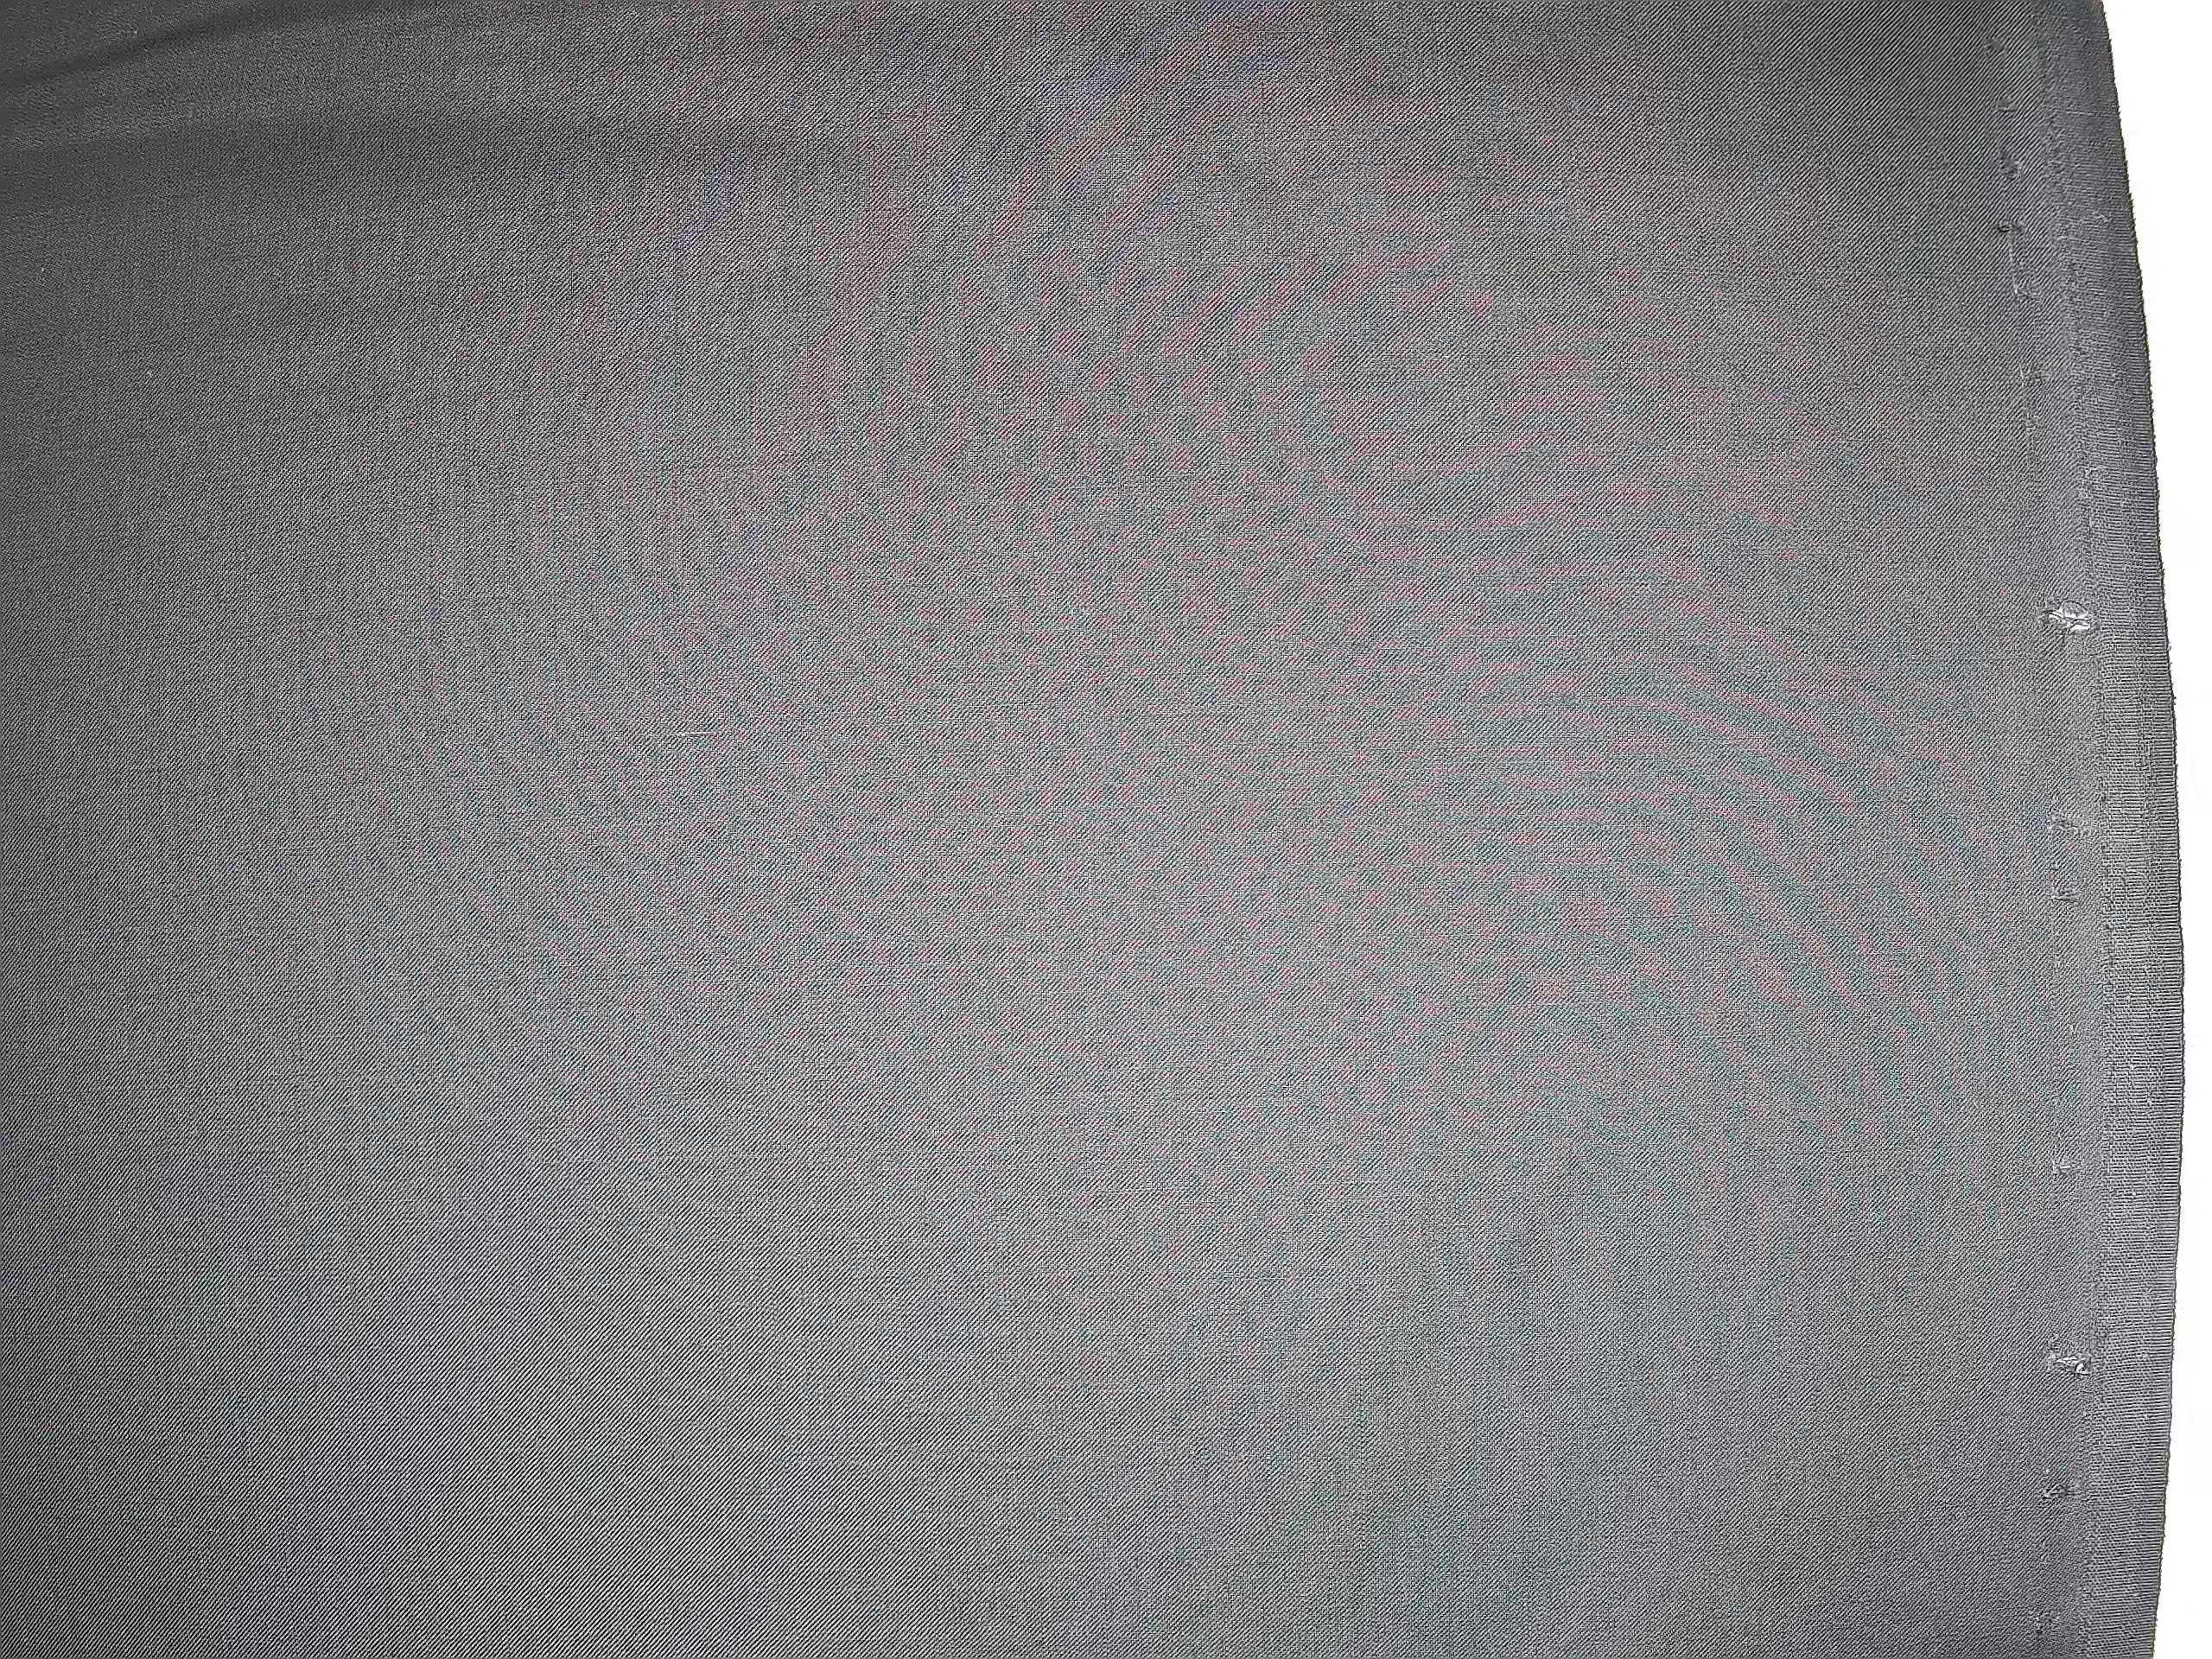puncture-hole: (1980, 112, 2116, 1568)
